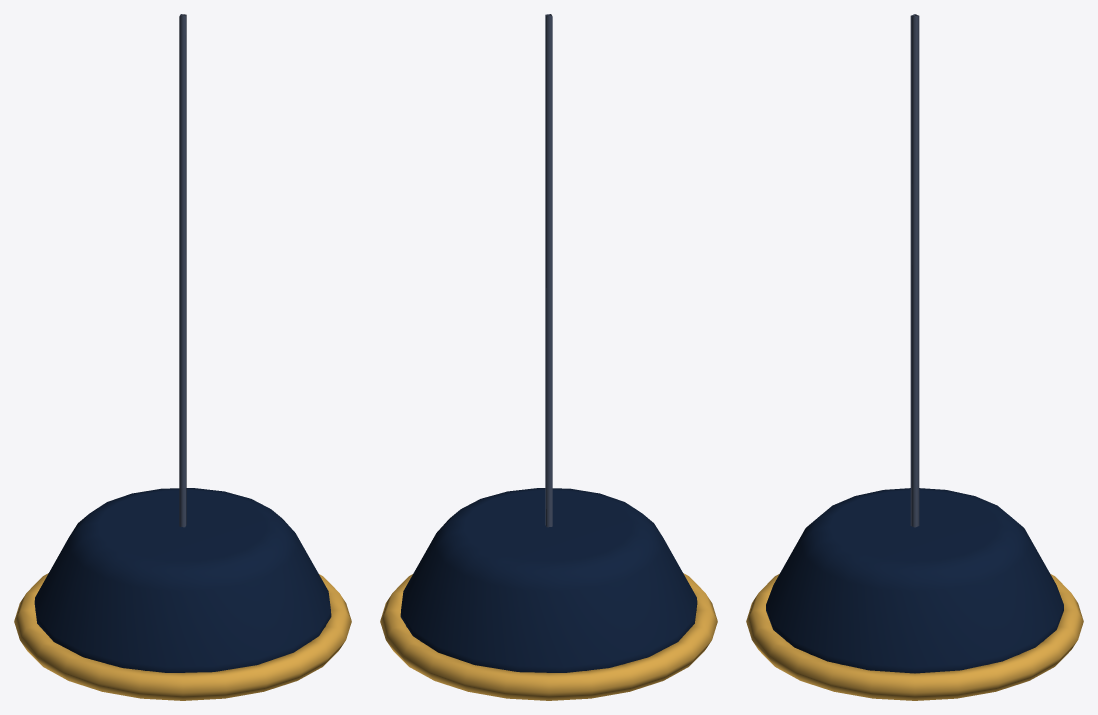
The model's file is aqua_pendant.glb.
3 renders of one model, left to right at view 1: azimuth 30°, elevation 25°; view 2: azimuth 150°, elevation 25°; view 3: azimuth 270°, elevation 25°, orthographic.
Parts seen in each view (by area): view 1: Pendant; view 2: Pendant; view 3: Pendant.
Boxes of the visible parts, x1,y1,x2,y2 form: Pendant: [14, 14, 351, 700]; Pendant: [380, 14, 717, 700]; Pendant: [746, 14, 1083, 700].
Bounding box in the file's own units: 0.96 × 1.93 × 0.96.
